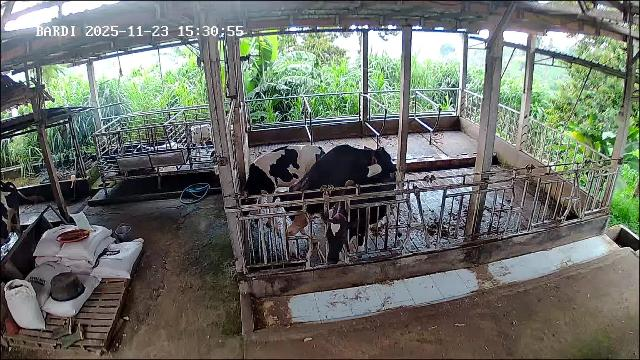mounting: (279, 143, 395, 261)
